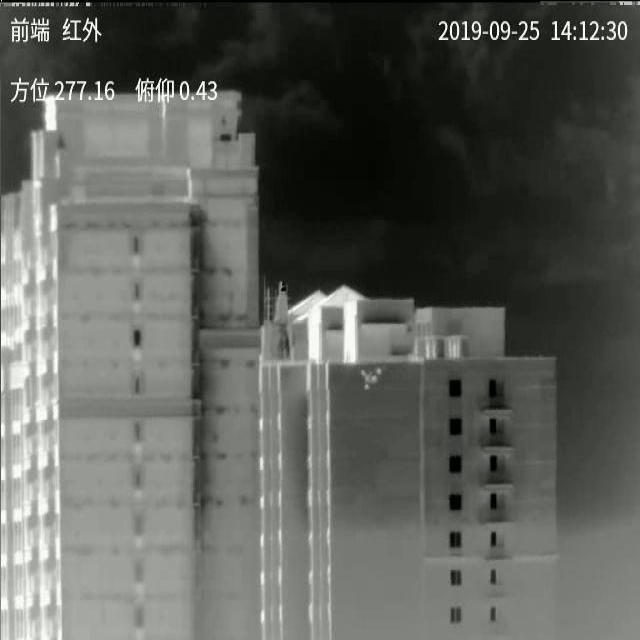drone: (360, 367, 383, 392)
